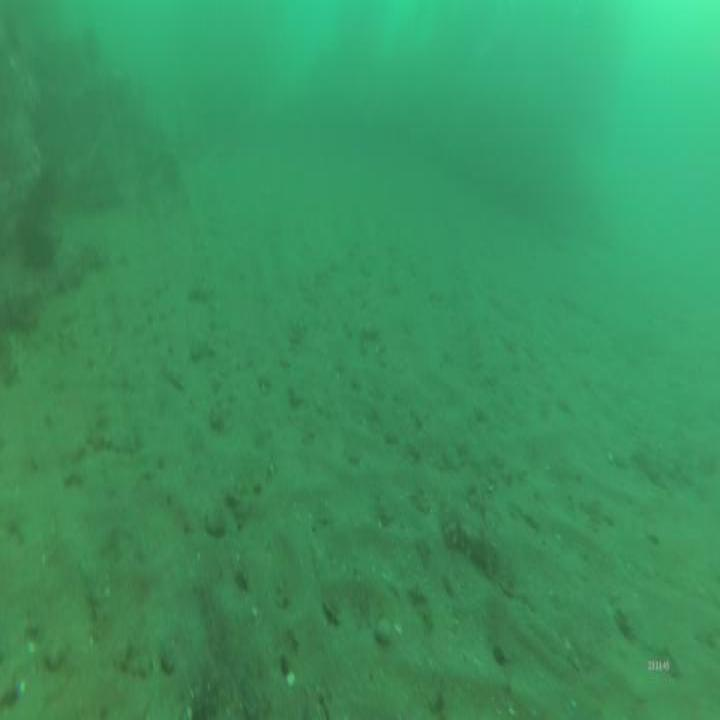holothurian: (436, 517, 526, 599)
